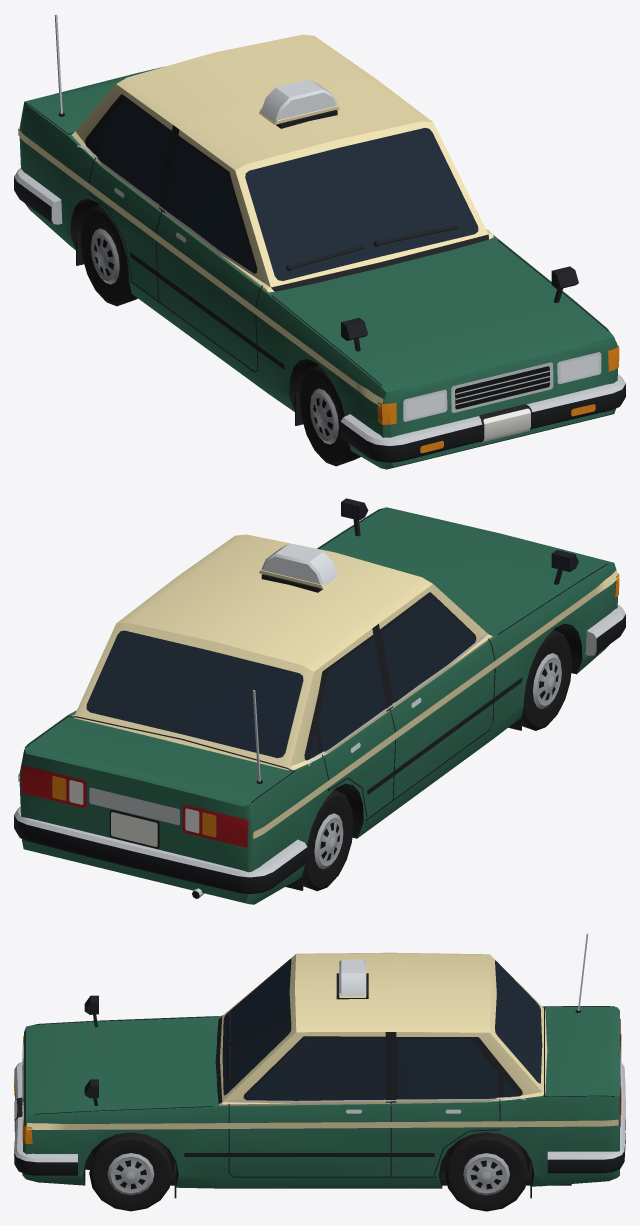
Rendered from traffic_taxi.glb.
3 views of the same model, one above another, from view 1: azimuth 30°, elevation 25°; view 2: azimuth 150°, elevation 25°; view 3: azimuth 270°, elevation 25° (orthographic). The views are drawn at different scales.
Visible parts, largest first — view 1: body, wheel_RR, wheel_FR; view 2: body, wheel_RR, wheel_FR; view 3: body, wheel_RL, wheel_FL.
Boxes of the visible parts, box(x1,y1,x2,y2) form: body: box(14, 14, 625, 469); wheel_RR: box(80, 205, 137, 306); wheel_FR: box(299, 365, 360, 466); body: box(14, 498, 625, 904); wheel_RR: box(303, 790, 353, 891); wheel_FR: box(522, 630, 572, 730); body: box(14, 933, 625, 1198); wheel_RL: box(445, 1132, 528, 1211); wheel_FL: box(89, 1132, 172, 1211).
Size of the model in its own units: 1.81 by 1.67 by 4.61.
